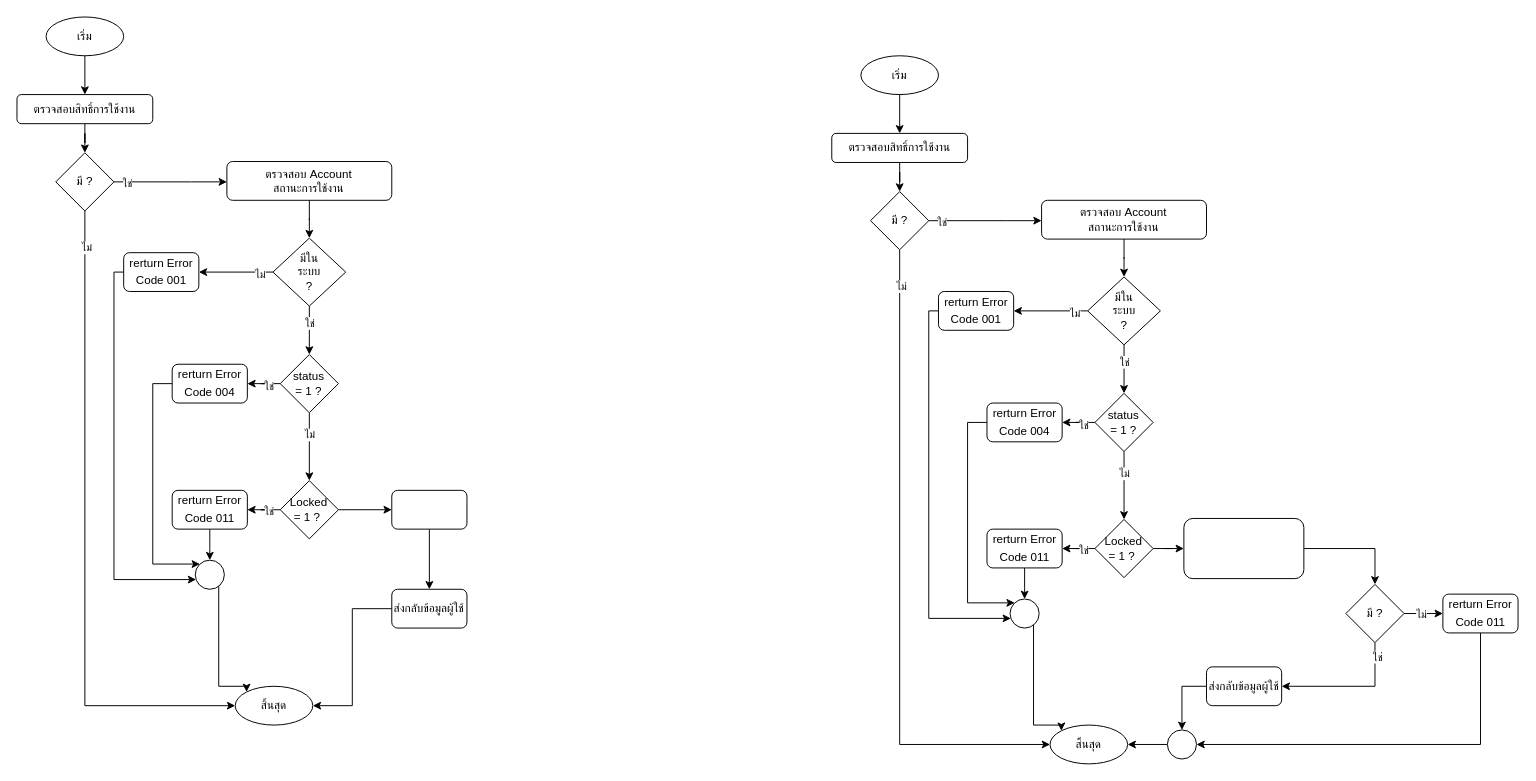
Some shapes in this 1536 by 781 pixel diagram are drawn without their labels. The centre of each missing label's shape, as x and y in pixels:
"ดึงข้อมูลประเทศด้วย รหัสอ้างอิงที่ได้รับ" belongs at (x=1243, y=548).
"ดึงข้อมูลประเทศทั้งหมด" belongs at (x=429, y=509).
